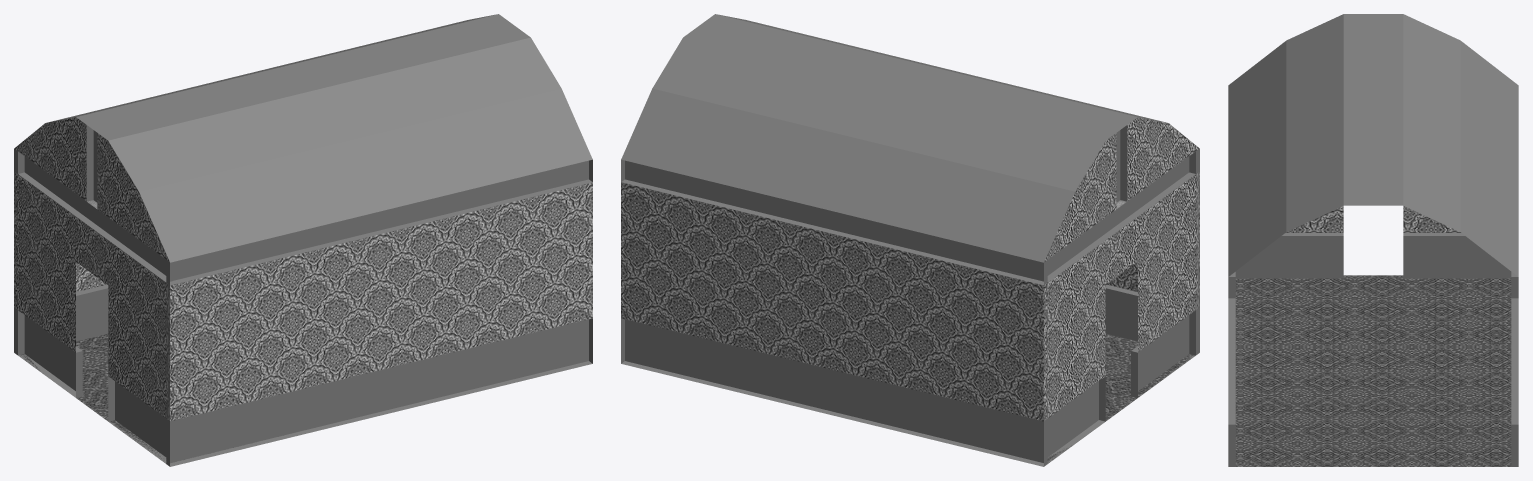
Rendered from Hallway_End.fbx.
3 renders of one model, left to right at view 1: azimuth 30°, elevation 25°; view 2: azimuth 150°, elevation 25°; view 3: azimuth 270°, elevation 25°, orthographic. The views are drawn at different scales.
Parts seen in each view (by area): view 1: Hallway_End; view 2: Hallway_End; view 3: Hallway_End.
Boxes of the visible parts, x1=… form: Hallway_End: x1=14, y1=14, x2=592, y2=466; Hallway_End: x1=621, y1=14, x2=1199, y2=466; Hallway_End: x1=1228, y1=14, x2=1518, y2=466.
Bounding box in the file's own units: 9.38 × 5.96 × 6.
Materials: 4 (2 with a texture image).
